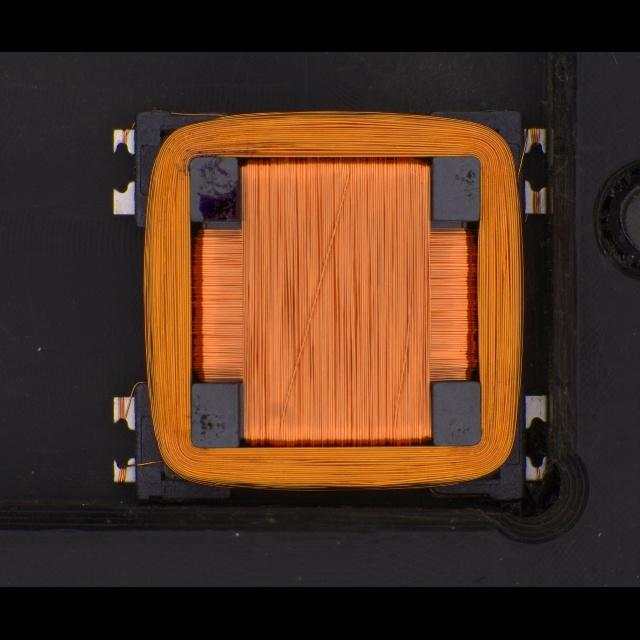Winding_Z: (116, 107, 527, 499)
